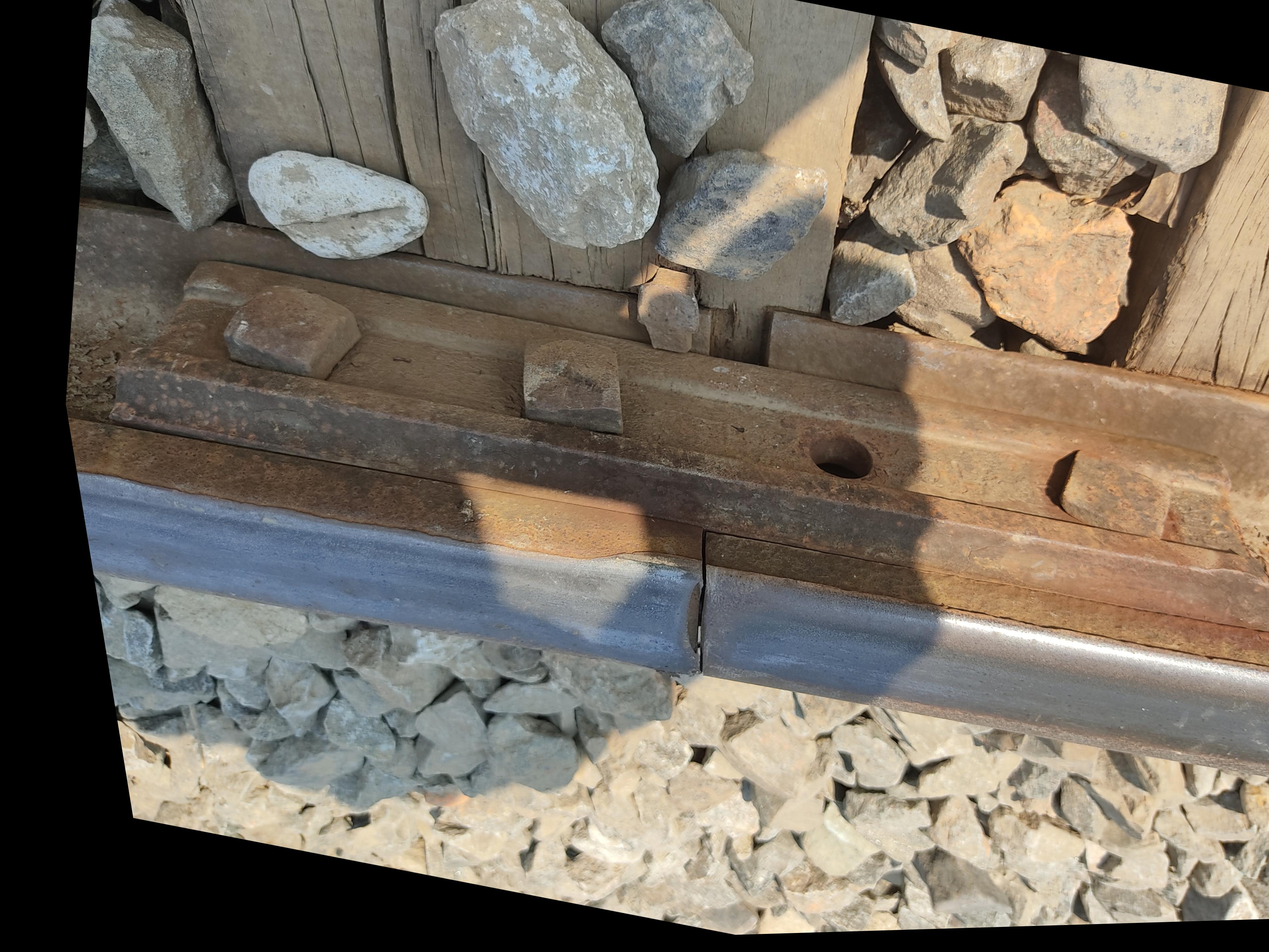person: (284, 644, 427, 757), (343, 532, 423, 598)
